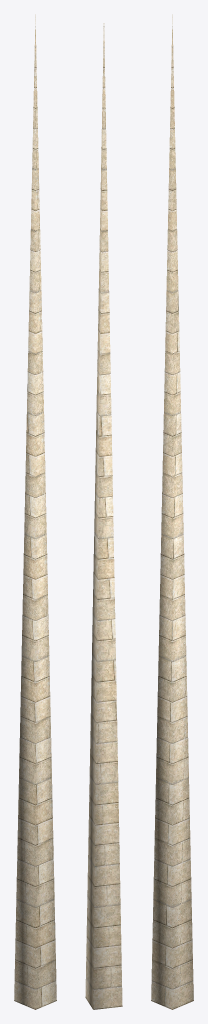
Rendered from thm_nboo_thed_imprv_obelisk_s03_l2.fbx.
3 views of the same model, side by side, from view 1: azimuth 90°, elevation 25°; view 2: azimuth 150°, elevation 25°; view 3: azimuth 270°, elevation 25° (orthographic).
Parts seen in each view (by area): view 1: mesh_node; view 2: mesh_node; view 3: mesh_node.
Boxes of the visible parts, x1=… form: mesh_node: x1=14, y1=14, x2=56, y2=1009; mesh_node: x1=85, y1=23, x2=122, y2=1009; mesh_node: x1=151, y1=14, x2=193, y2=1009.
Bounding box in the file's own units: 1.12 × 28.68 × 1.12.
